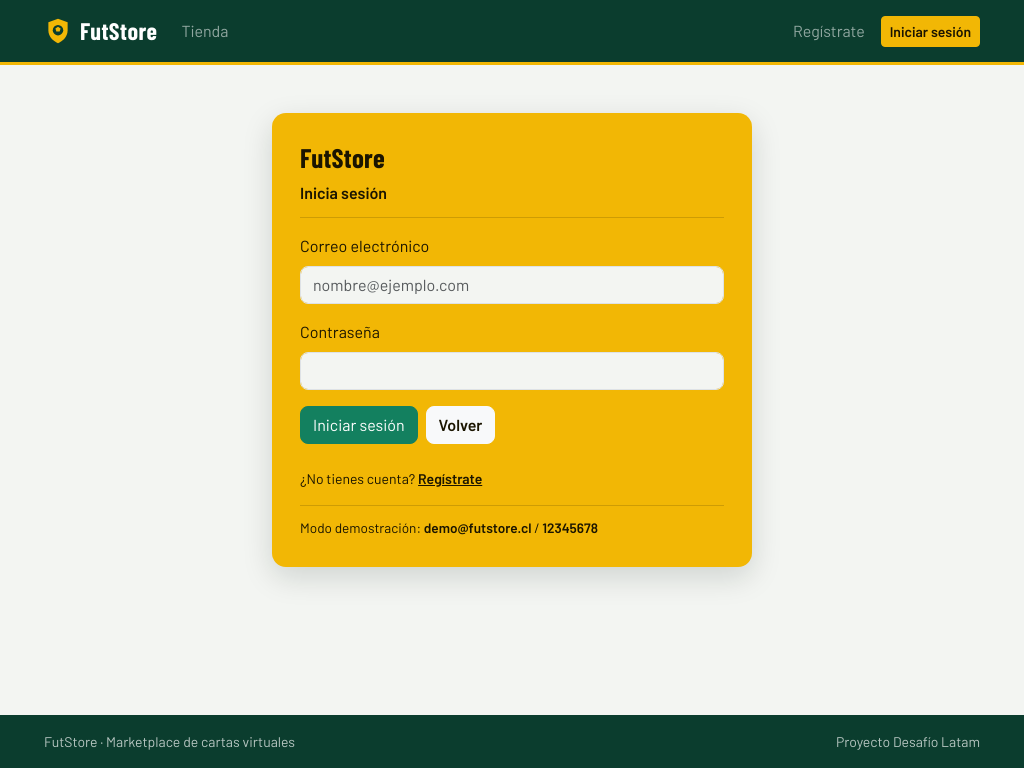
Test: Rutas privadas y sesión (Context) › después de iniciar sesión vuelve a la vista que se intentó abrir
Type "demo@futstore.cl" into the field labelled "Correo electrónico" at (512, 285), box [300, 266, 724, 304]
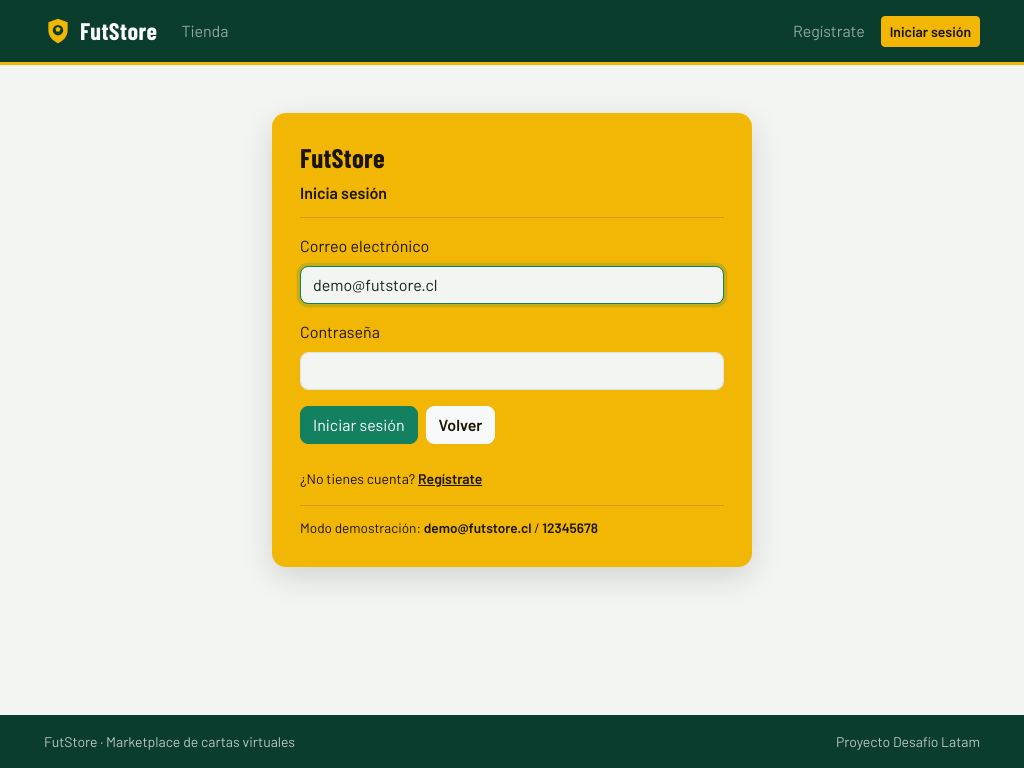
Type "12345678" into the password field labelled "Contraseña" at (512, 371), box [300, 352, 724, 390]
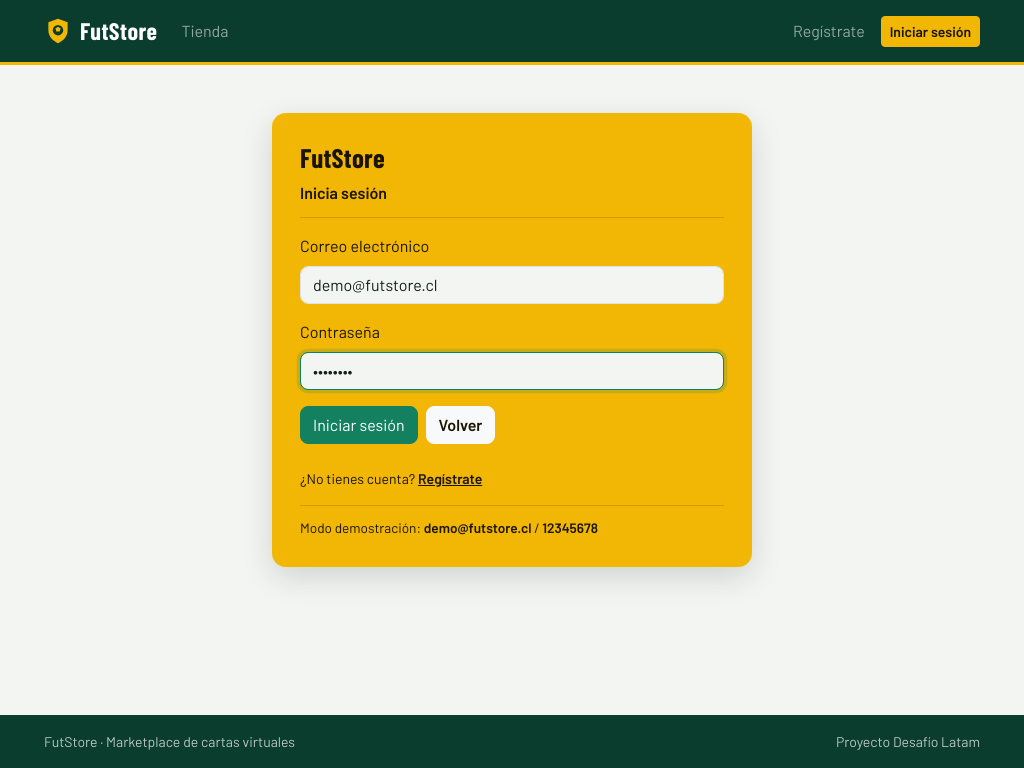
Click the button "Iniciar sesión" below "Contraseña" at (359, 425), box [300, 406, 418, 444]
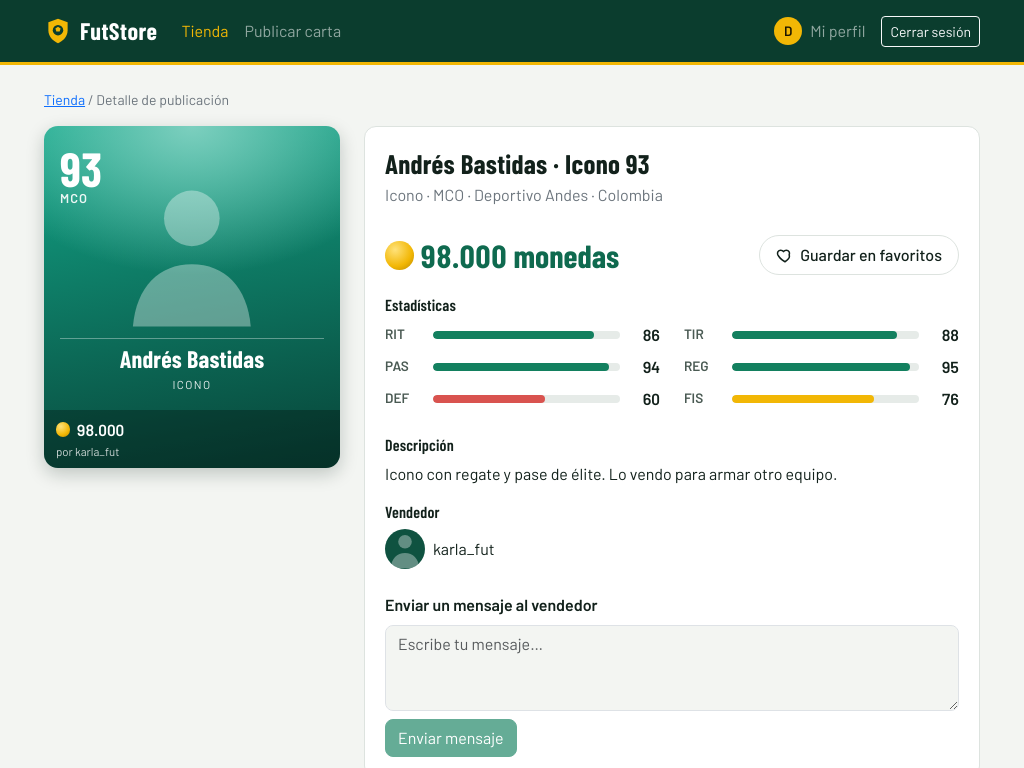
expect the text "/ Detalle de publicación" is shown: met, box [88, 91, 229, 108]
expect the heading "Andrés Bastidas · Icono 93" is shown: met, box [385, 147, 663, 179]
